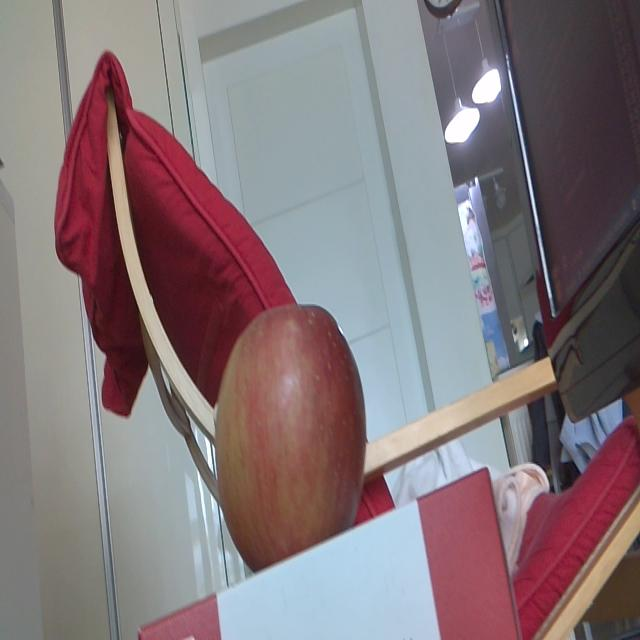apple: (212, 305, 368, 578)
